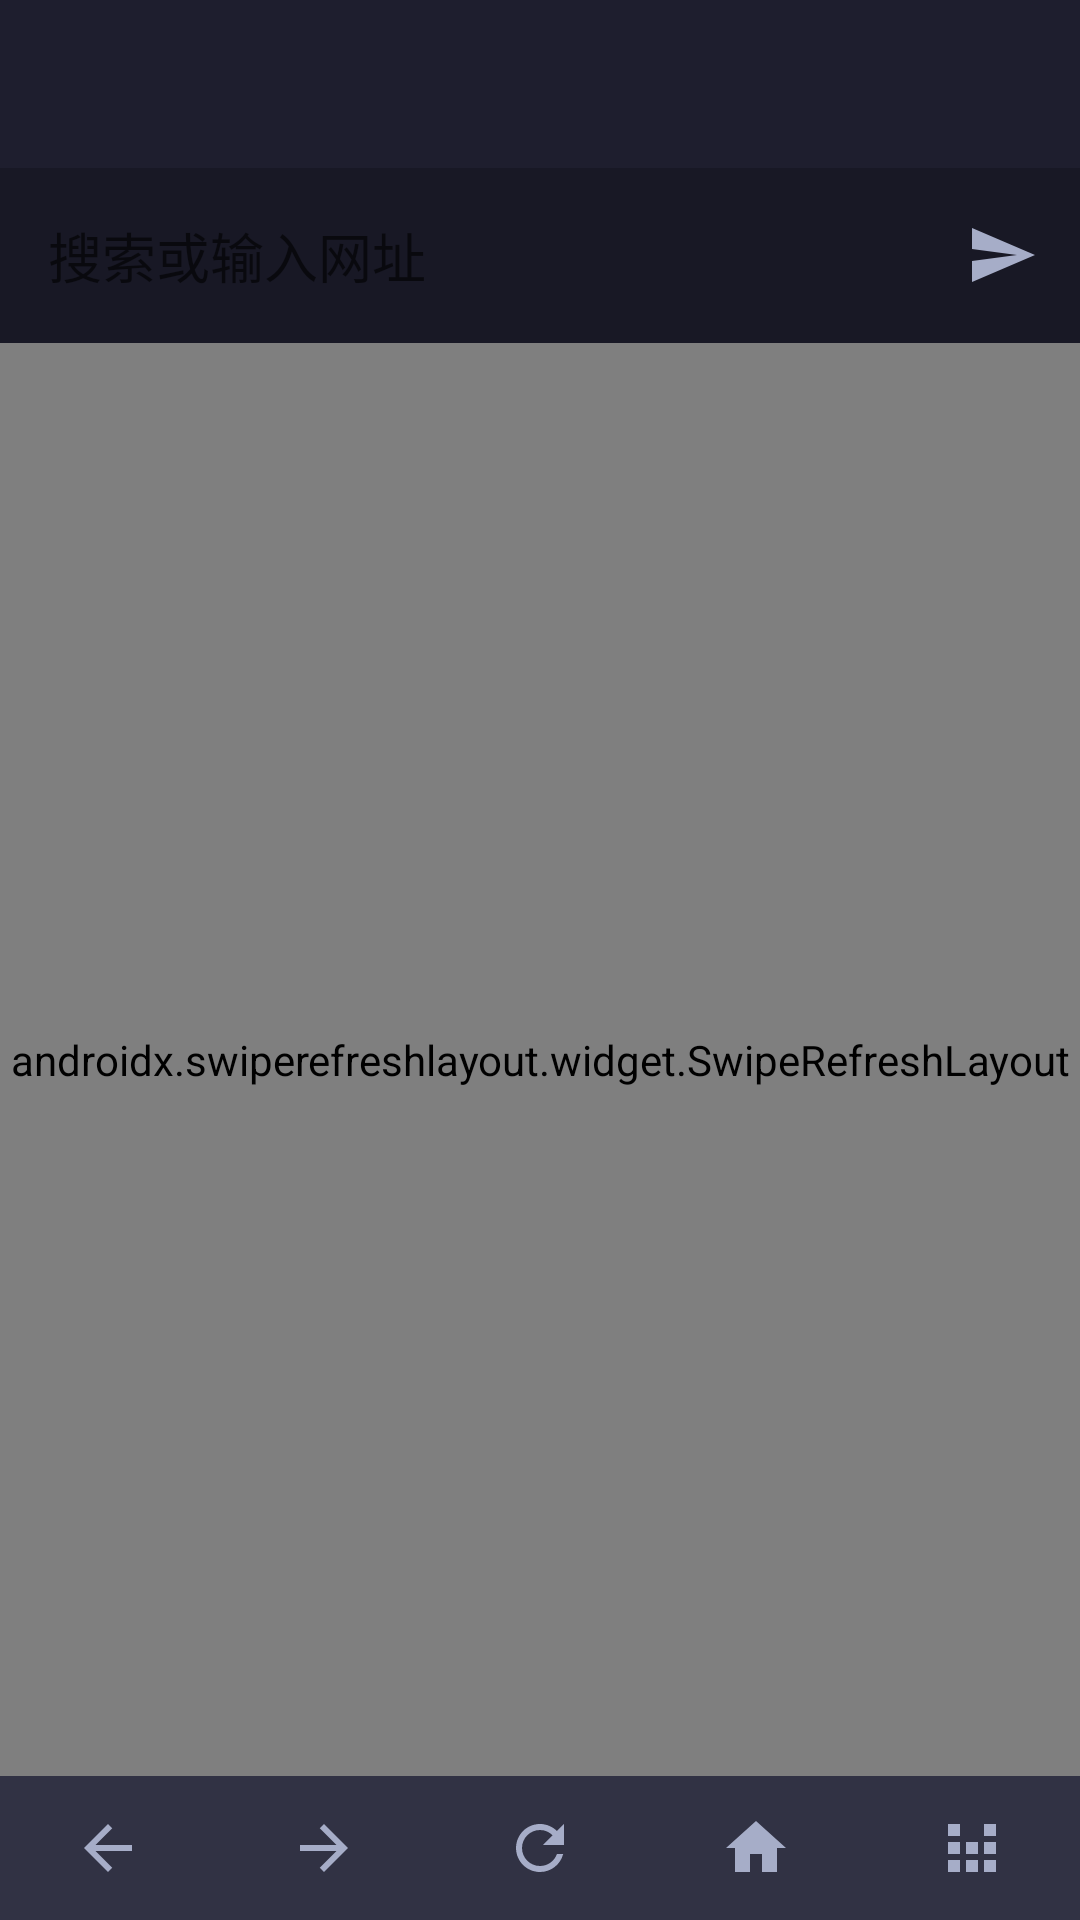

Screen size 1080x1920. Icon name, then its center in pixels as [x,y]:
主页: [756,1846]
刷新: [540,1848]
前往: [1003,255]
前进: [324,1848]
后退: [108,1848]
标签页: [972,1848]
